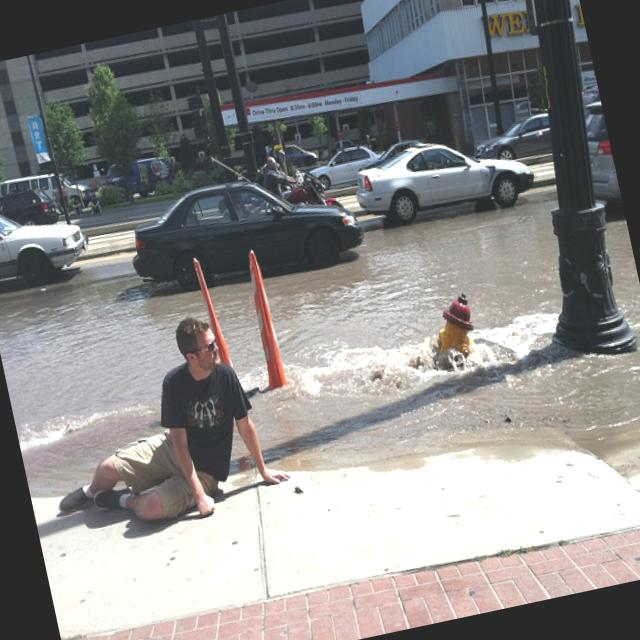Vehicle: (120, 157, 368, 306), (349, 122, 538, 235), (0, 184, 92, 293), (574, 96, 626, 226), (0, 163, 91, 224), (0, 164, 91, 224), (468, 111, 558, 167), (94, 152, 176, 207), (306, 141, 392, 193), (281, 163, 344, 218), (0, 184, 60, 234), (284, 138, 322, 169), (335, 135, 358, 151)
